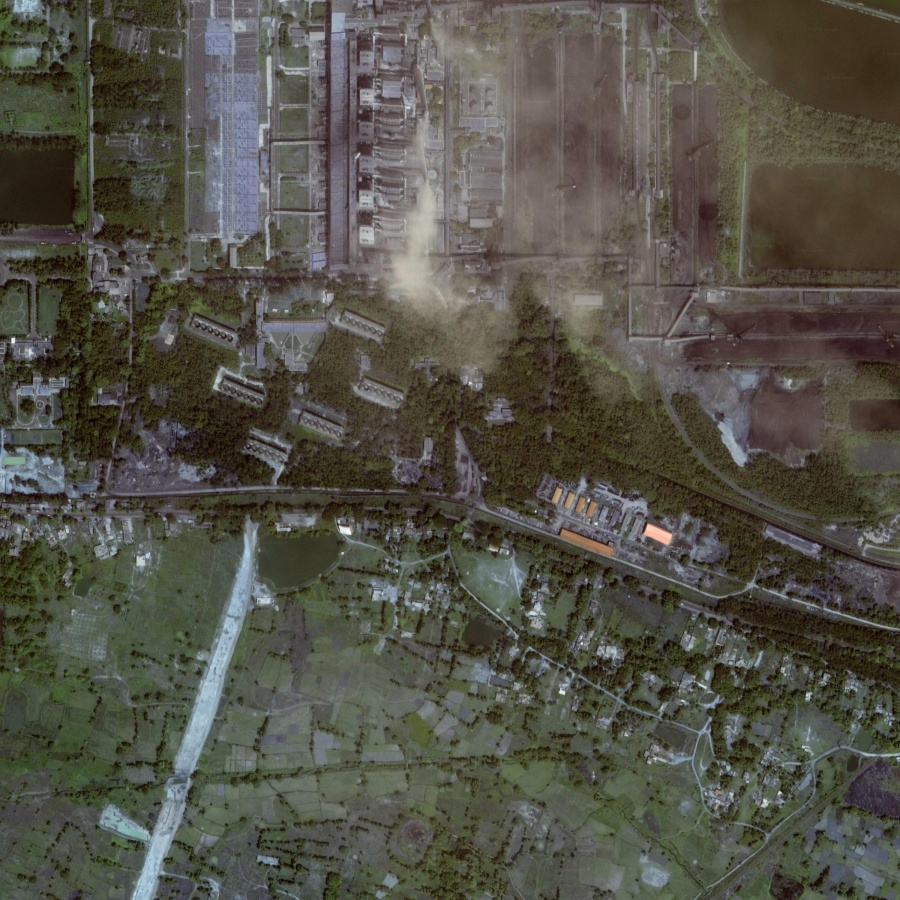PowerPlant: (400, 3, 730, 324)
